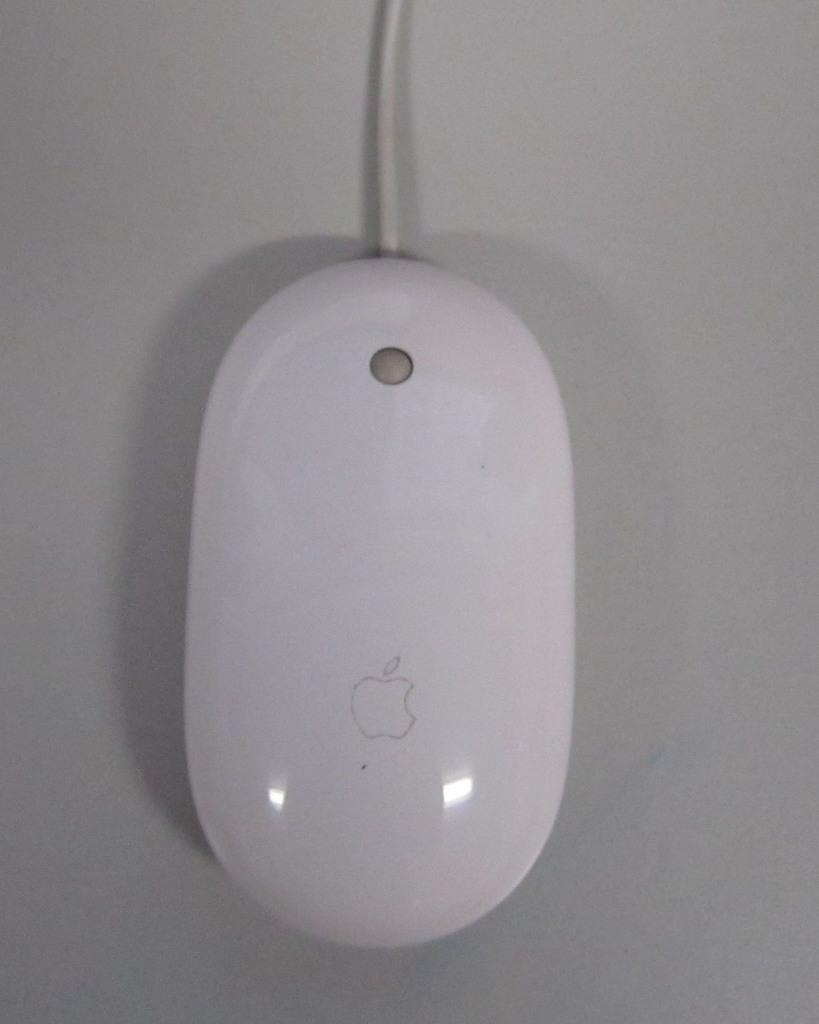Computer-mouse: (181, 247, 575, 950)
